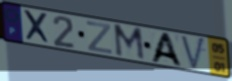2: (51, 15, 77, 51)
A: (148, 31, 185, 68)
M: (112, 23, 147, 63)
V: (179, 34, 207, 72)
X: (21, 9, 53, 46)
Z: (85, 20, 113, 56)
